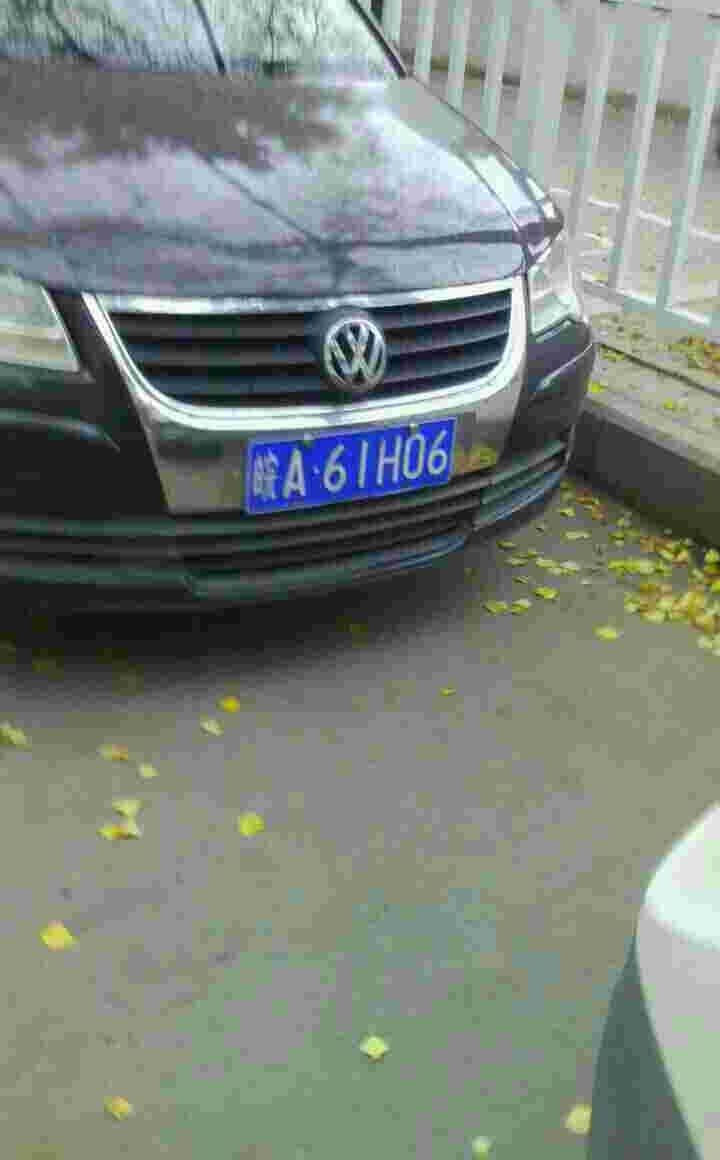license_plate: (249, 412, 455, 506)
